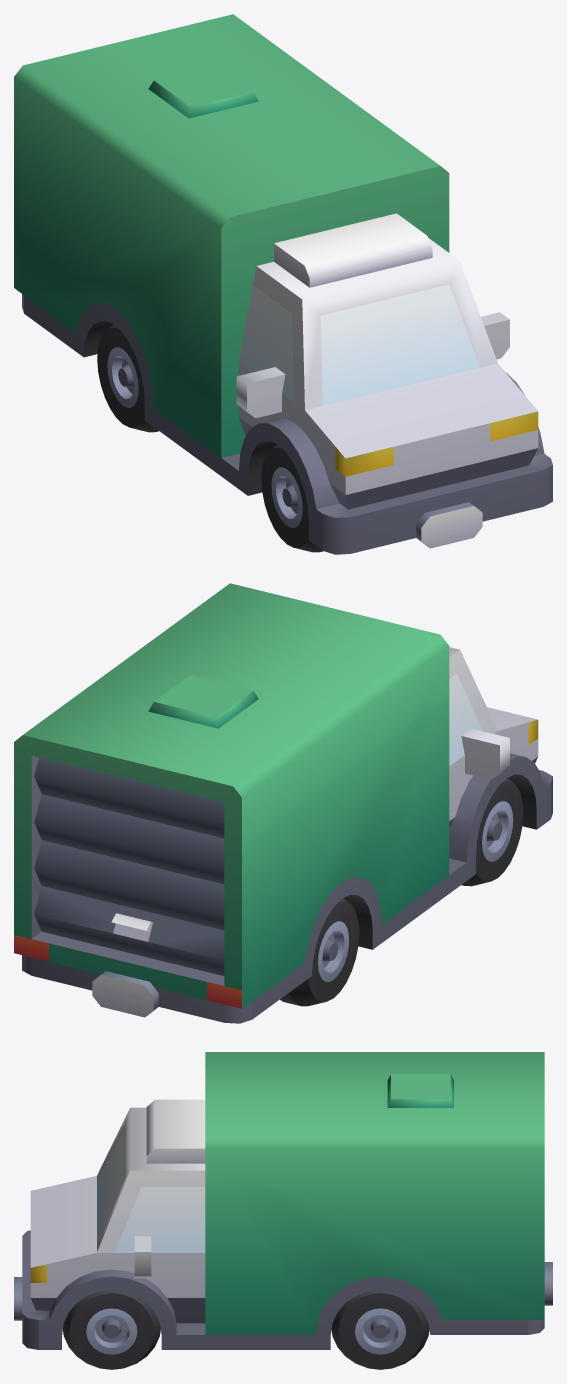
The model's file is k-car-delivery.glb.
The picture shows the model from 3 angles, top to bottom: view 1: azimuth 30°, elevation 25°; view 2: azimuth 150°, elevation 25°; view 3: azimuth 270°, elevation 25°; orthographic projection. The views are drawn at different scales.
Visible parts, largest first — view 1: body, wheel-front-right, wheel-back-right; view 2: body, door, wheel-back-right, wheel-front-right; view 3: body, wheel-back-left, wheel-front-left.
Boxes of the visible parts, x1,y1,x2,y2 form: body: [14, 14, 552, 554]; wheel-front-right: [261, 444, 323, 552]; wheel-back-right: [97, 324, 158, 432]; body: [14, 583, 552, 1023]; door: [34, 757, 224, 975]; wheel-back-right: [280, 898, 359, 1006]; wheel-front-right: [461, 778, 523, 886]; body: [14, 1052, 552, 1349]; wheel-back-left: [331, 1290, 429, 1369]; wheel-front-left: [63, 1290, 160, 1369].
Bounding box in the file's own units: 1.5 × 1.65 × 3.25.
Materials: 1 (1 with a texture image).
